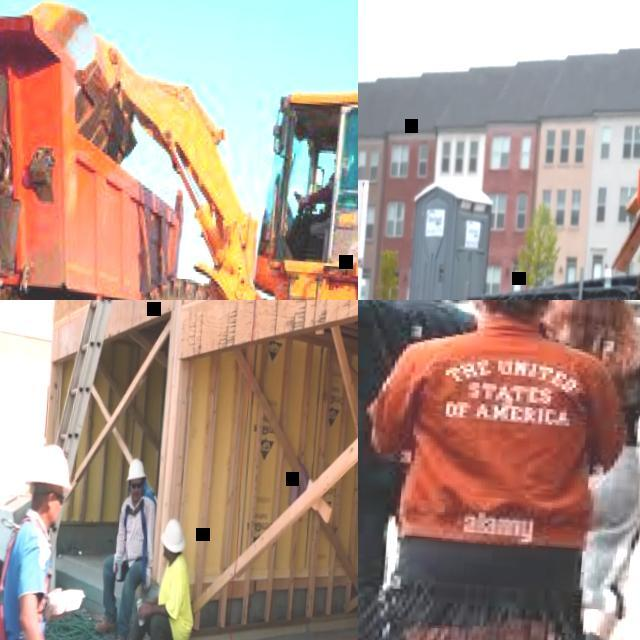Helmet: (17, 446, 78, 495), (157, 511, 190, 555), (123, 445, 155, 490)
Robbery: (361, 289, 629, 640), (564, 282, 640, 640), (0, 419, 93, 640), (360, 283, 410, 615), (103, 429, 168, 639), (147, 502, 209, 640)
